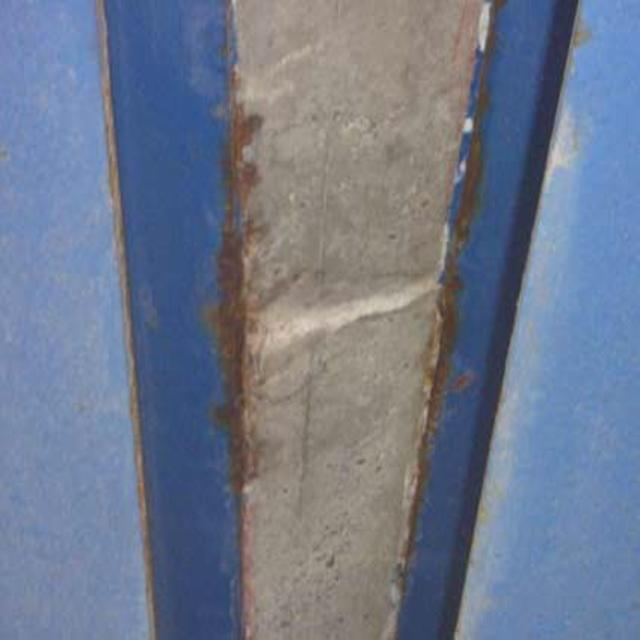corrosion: (414, 40, 507, 541), (210, 59, 284, 494)
